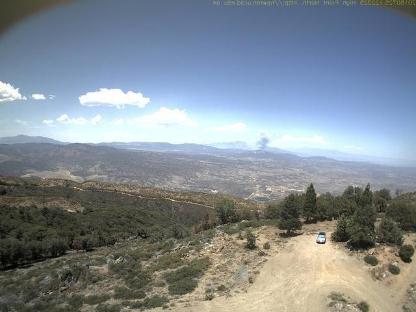smoke: (252, 133, 274, 155)
